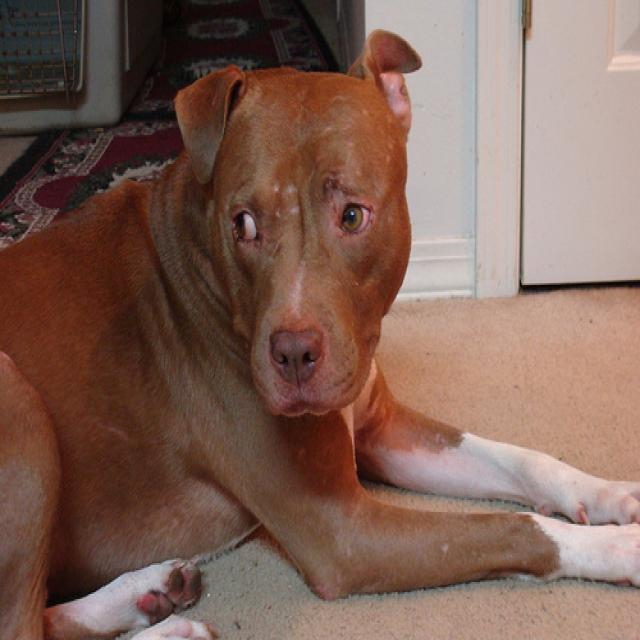dog-american_pit_bull_terrier: (1, 20, 637, 637)
